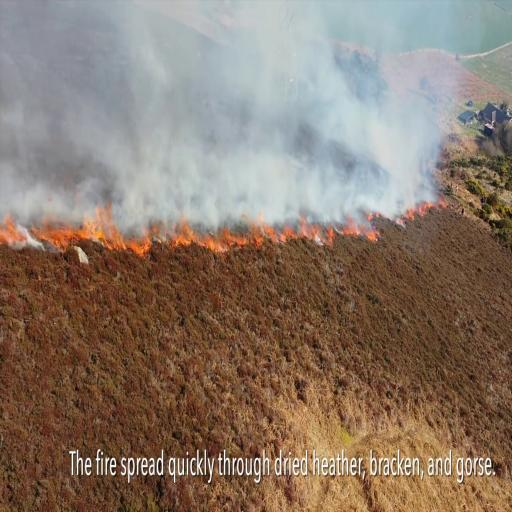fire: (0, 200, 128, 256), (176, 215, 237, 255), (319, 210, 374, 248), (240, 212, 285, 249), (128, 235, 155, 257)
smoke: (1, 1, 447, 208)
